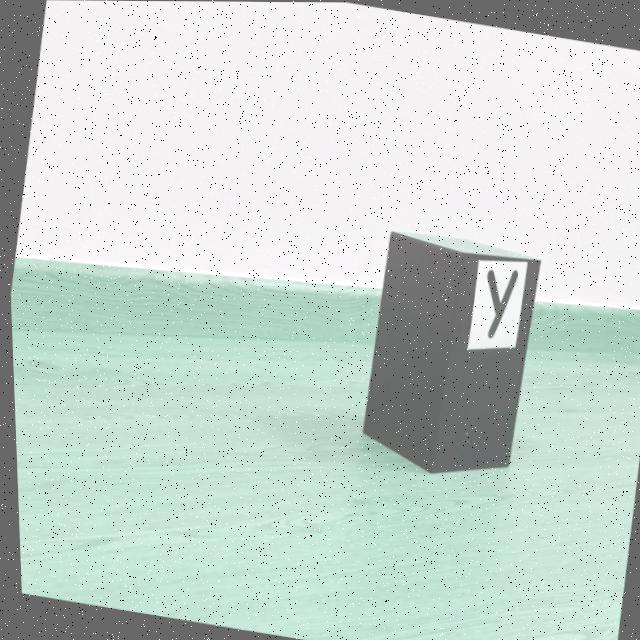Y: (484, 269, 517, 338)
